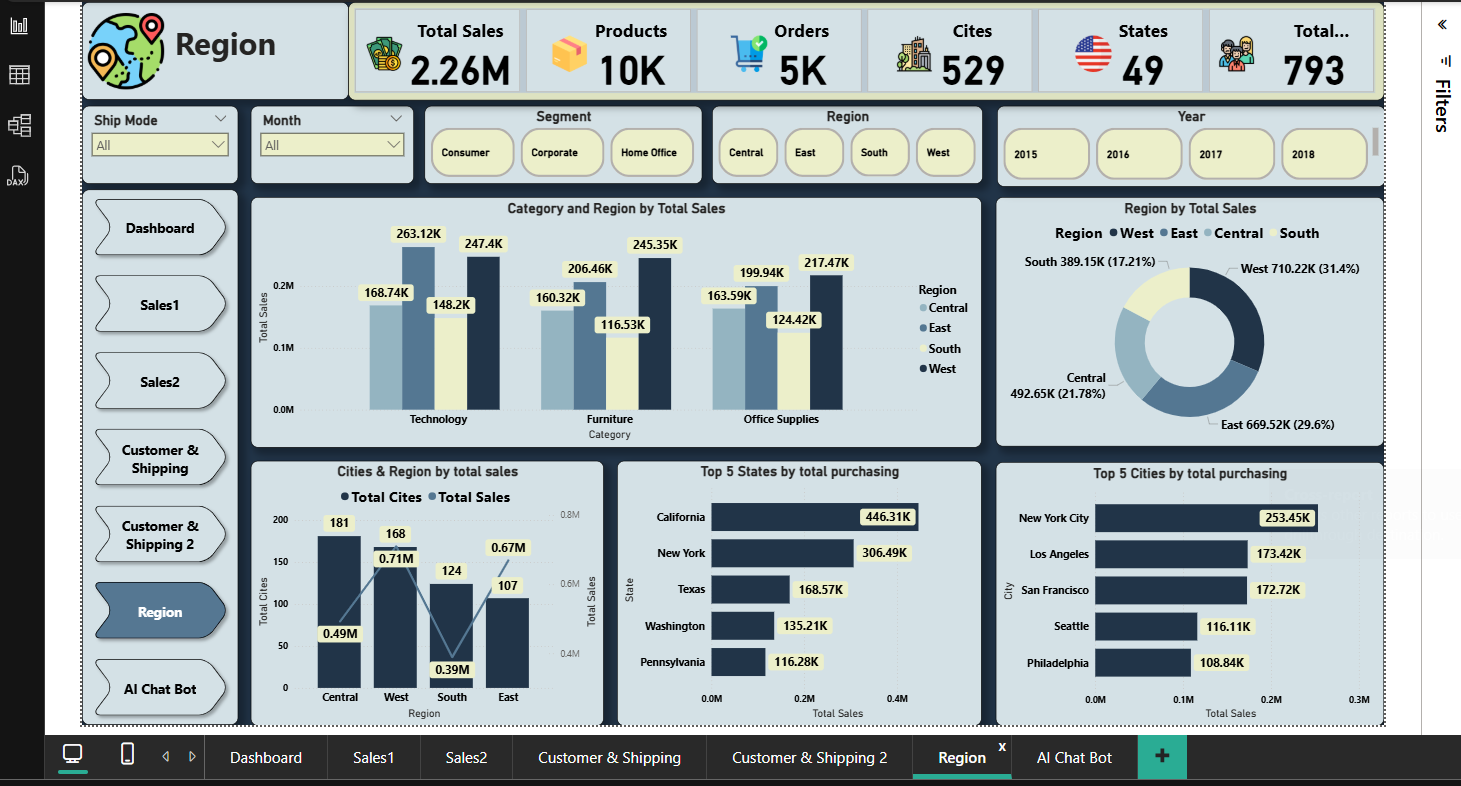

Layout of this report page (visuals, bound fields, positions):
{"tool":"powerbi","page":{"name":"Region","canvas":[1800,1000],"ordinal":4},"visuals":[{"type":"shape","box":[0,0,1800,1000.2],"z":500},{"type":"textbox","box":[619.4,0,603.3,96.2],"z":1000},{"type":"cardVisual","fields":{"Data":["_Measures.Total_Sales","_Measures.Total_Products","_Measures.Total_Orders","_Measures.Total_Cites","_Measures.Total_States","_Measures.Total Customers"]},"box":[156.3,96.8,1616.9,134.2],"z":2000},{"type":"clusteredBarChart","title":"Top 5 purchasing Cities","fields":{"Category":["DIM_Location.City"],"Y":["_Measure.Total Sales"]},"box":[1240.8,635.4,533.2,364.8],"z":3000},{"type":"donutChart","title":"Each  Region by Total Sales ","fields":{"Y":["_Measures.Total Sales"],"Category":["DIM_Location.Region"]},"box":[1240.8,246.5,533.2,366.8],"z":4000},{"type":"clusteredColumnChart","fields":{"Category":["DIM_Product.Category"],"Y":["_Measure.Total Sales"],"Series":["DIM_Location.Region"]},"box":[156.3,244.5,1066.4,370.8],"z":5000},{"type":"pieChart","title":"Number of Cities by Region","fields":{"Y":["_Measure.Total_Cites"],"Category":["DIM_Location.Region"]},"box":[156.3,635.4,503.1,364.8],"z":6000},{"type":"clusteredBarChart","title":"Top 5 purchasing States","fields":{"Y":["_Measure.Total Sales"],"Category":["DIM_Location.State"]},"box":[689.5,635.4,533.2,364.8],"z":7000},{"type":"advancedSlicerVisual","fields":{"Values":["Calender_Table.Year"]},"box":[0,96.8,122.3,416.1],"z":8000},{"type":"slicer","fields":{"Values":["Calender_Table.Month_Name"]},"box":[0,535,122.3,57.7],"z":9000},{"type":"slicer","fields":{"Values":["DIM_Customer.Segment"]},"box":[0,872.6,122.3,127.4],"z":10000},{"type":"slicer","fields":{"Values":["DIM_Location.Region"]},"box":[0,699.7,122.3,154.6],"z":11000},{"type":"slicer","fields":{"Values":["Superstore Sales Dataset.Ship Mode"]},"box":[0,611.4,122.3,66.2],"z":12000}]}

Visuals, with their boxes on the page's 1800x1000 design canvas (x1, y1, x2, y2). These are canvas units, not pixel positions in the 1461x786 screenshot, which may show the page scaled, cropped or inside an application window:
shape: region(0, 0, 1800, 1000)
textbox: region(619, 0, 1223, 96)
cardVisual - _Measures.Total_Sales x _Measures.Total_Products: region(156, 97, 1773, 231)
"Top 5 purchasing Cities" clusteredBarChart: region(1241, 635, 1774, 1000)
"Each  Region by Total Sales " donutChart: region(1241, 246, 1774, 613)
clusteredColumnChart - DIM_Product.Category x _Measure.Total Sales: region(156, 244, 1223, 615)
"Number of Cities by Region" pieChart: region(156, 635, 659, 1000)
"Top 5 purchasing States" clusteredBarChart: region(690, 635, 1223, 1000)
advancedSlicerVisual - Calender_Table.Year: region(0, 97, 122, 513)
slicer - Calender_Table.Month_Name: region(0, 535, 122, 593)
slicer - DIM_Customer.Segment: region(0, 873, 122, 1000)
slicer - DIM_Location.Region: region(0, 700, 122, 854)
slicer - Superstore Sales Dataset.Ship Mode: region(0, 611, 122, 678)
